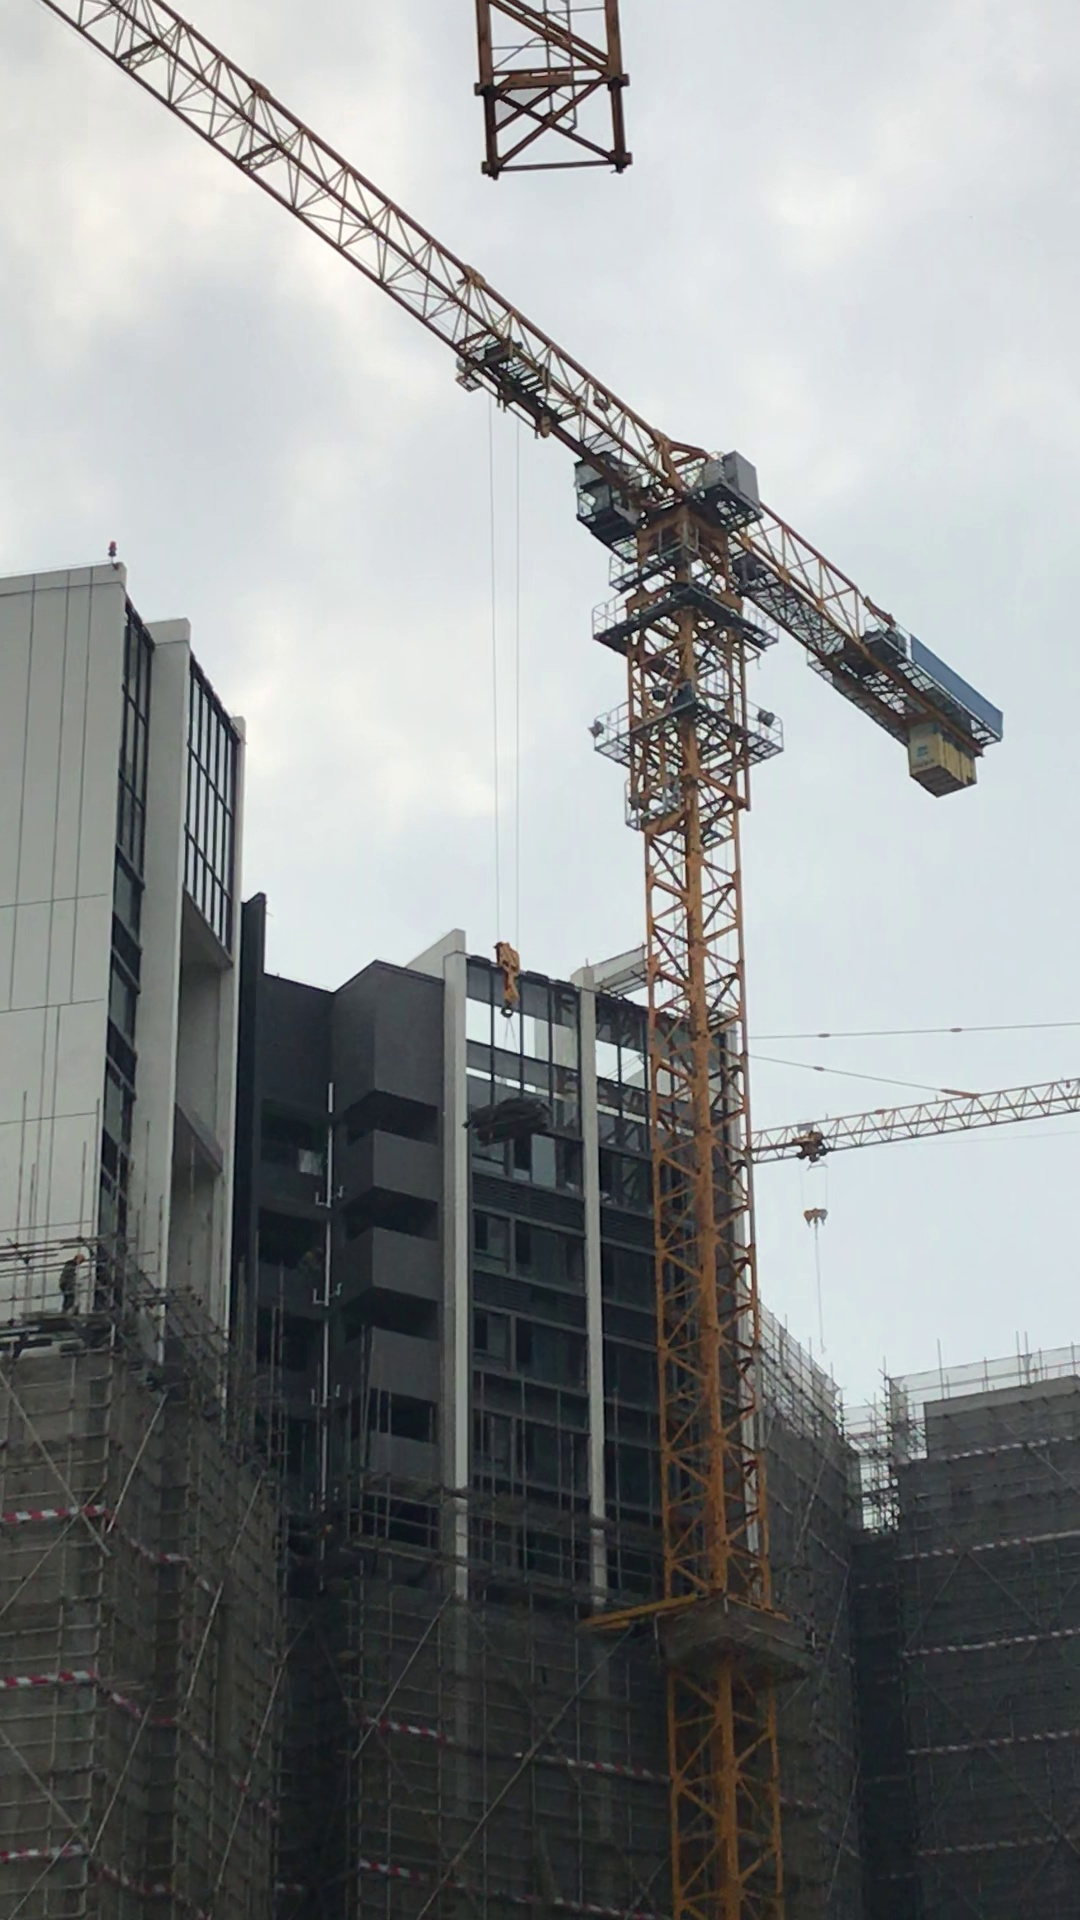hook: (493, 940, 526, 1021), (804, 1207, 829, 1228)
